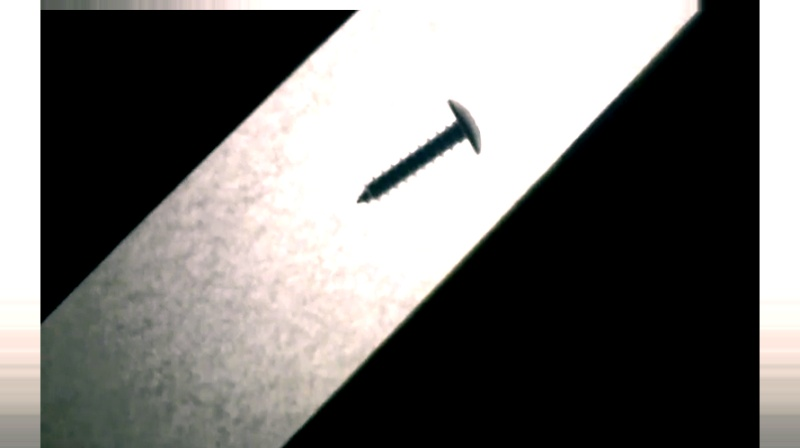S003: (351, 96, 488, 205)
